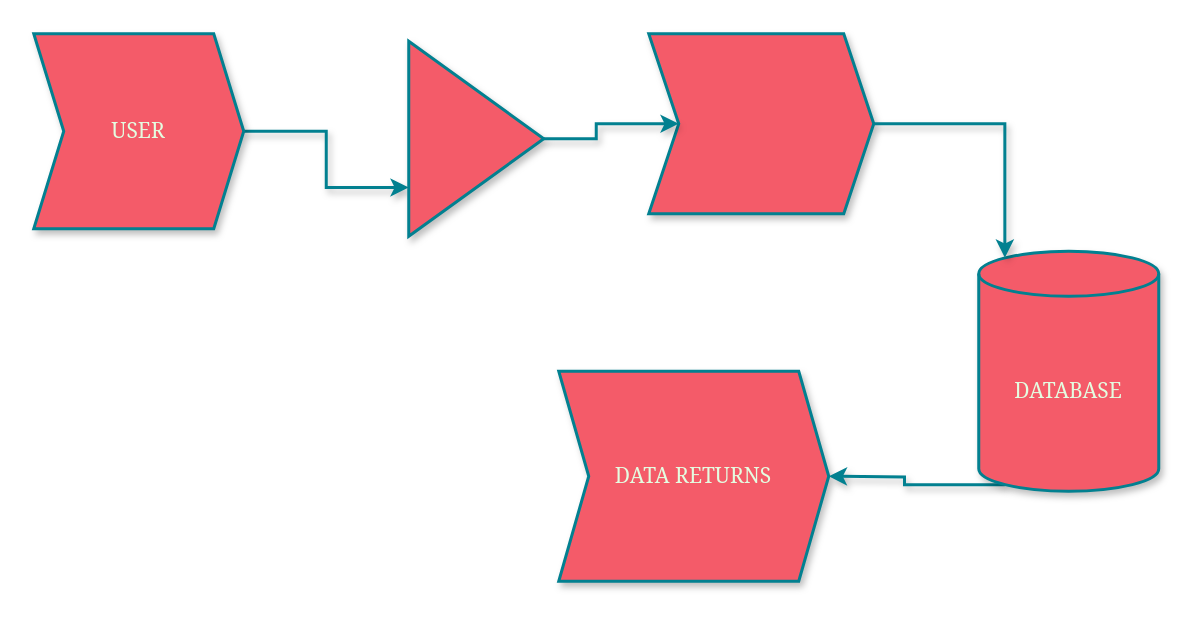
Some shapes in this 1194 by 618 pixel diagram are drawn without their labels. The centre of each missing label's shape, as x and y in pixels:
"API" goes at point 762,125.
"WEBSITE" goes at point 477,140.
